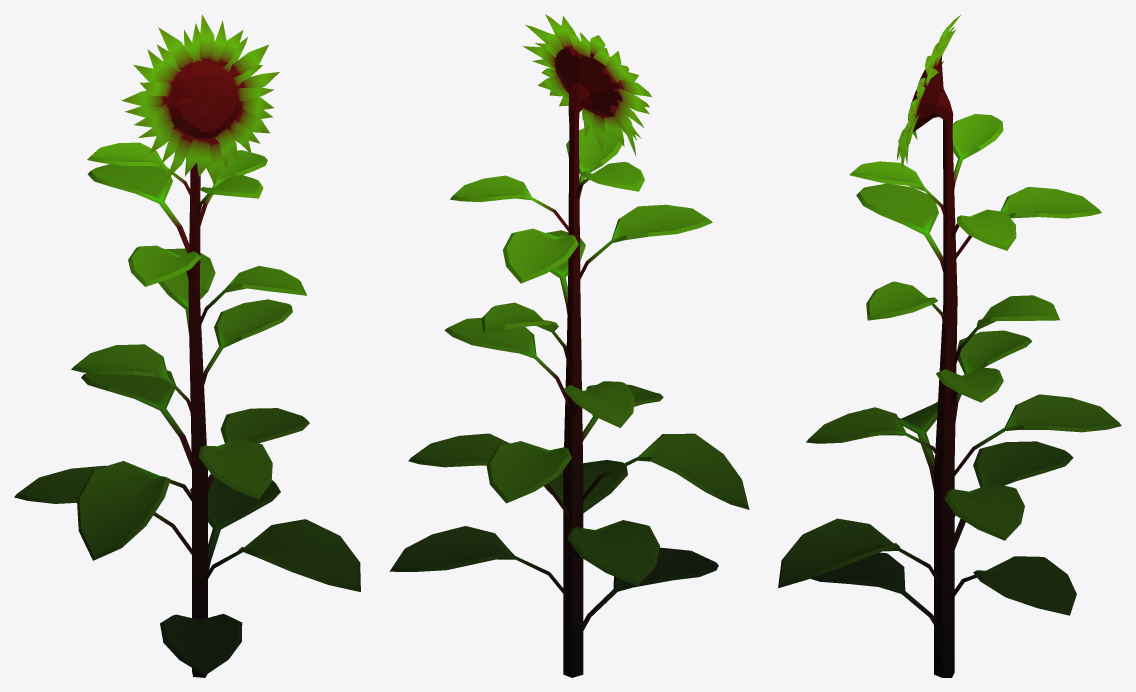
File: SM_Env_Sunflower_01.fbx
3 renders of one model, left to right at view 1: azimuth 30°, elevation 25°; view 2: azimuth 150°, elevation 25°; view 3: azimuth 270°, elevation 25°, orthographic.
Visible parts, largest first — view 1: SM_Env_Sunflower_01_LOD0; view 2: SM_Env_Sunflower_01_LOD0; view 3: SM_Env_Sunflower_01_LOD0.
Boxes of the visible parts, <box> form: SM_Env_Sunflower_01_LOD0: <box>14,14,360,677</box>; SM_Env_Sunflower_01_LOD0: <box>389,14,749,677</box>; SM_Env_Sunflower_01_LOD0: <box>778,15,1121,677</box>.
Size of what is drawn, in the model's own units: 71.68 by 163 by 78.13.
